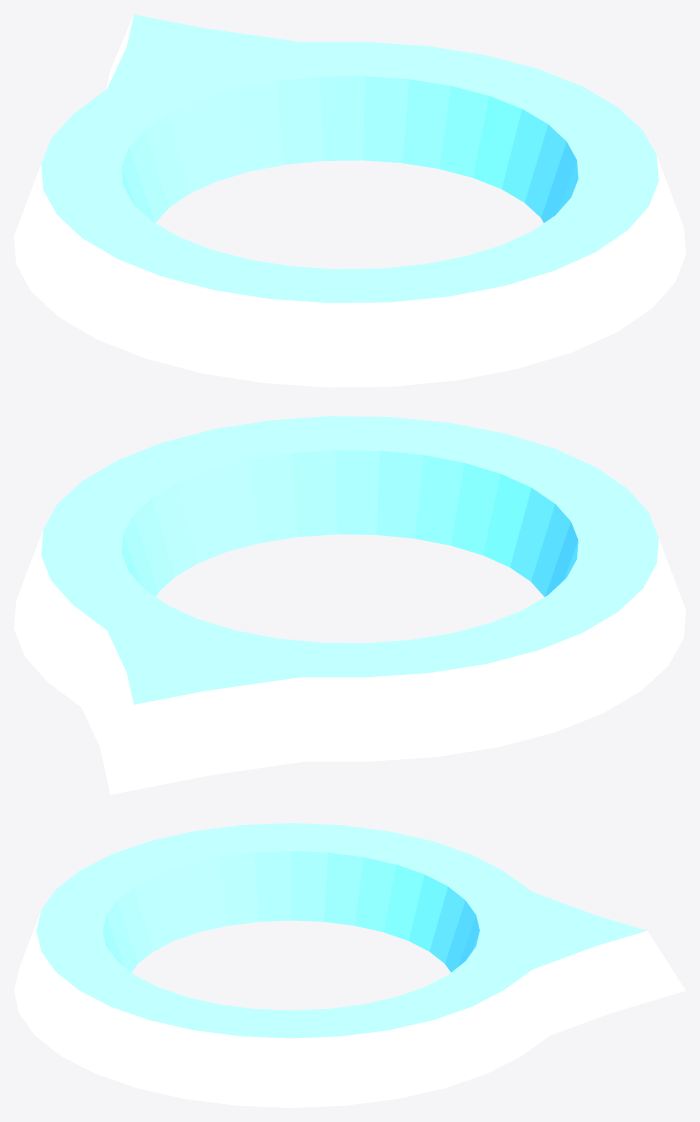
Rendered from tpPointer.glb.
3 renders of one model, top to bottom at view 1: azimuth 30°, elevation 25°; view 2: azimuth 150°, elevation 25°; view 3: azimuth 270°, elevation 25°, orthographic. The views are drawn at different scales.
Parts seen in each view (by area): view 1: tpPointer; view 2: tpPointer; view 3: tpPointer.
Part boxes in pixels (left/top/right/bottom): tpPointer: left=14, top=14, right=685, bottom=387; tpPointer: left=14, top=416, right=685, bottom=794; tpPointer: left=14, top=823, right=685, bottom=1107.
Bounding box in the file's own units: 2 × 0.2388 × 2.42.
